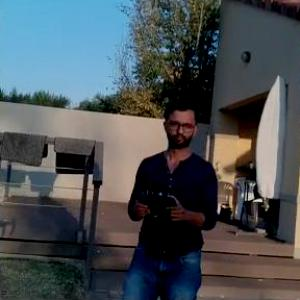follow: (113, 94, 216, 299)
